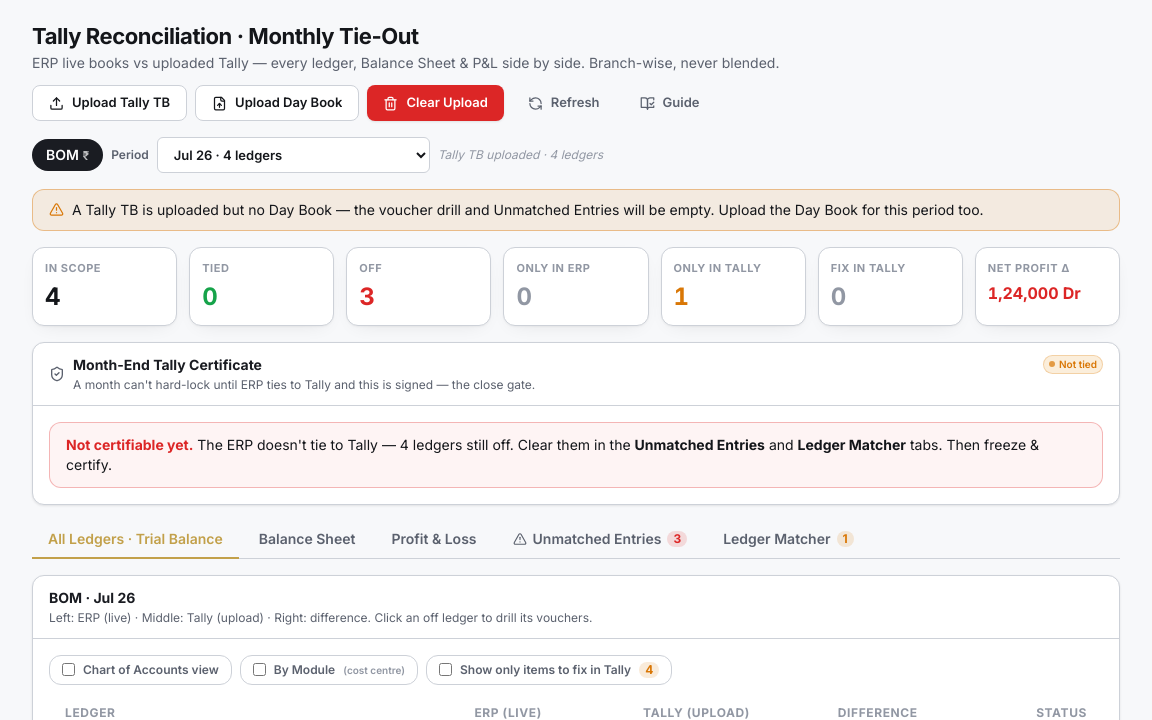
Test: Tally Reconciliation · tie-out board render › Unmatched Entries — voucher defects split into Not in ERP / Not in Tally; whole-ledger (master) gaps are excluded
Click the button "Unmatched Entries 3" at (600, 540), box [496,520,703,558]
(page scrolled)
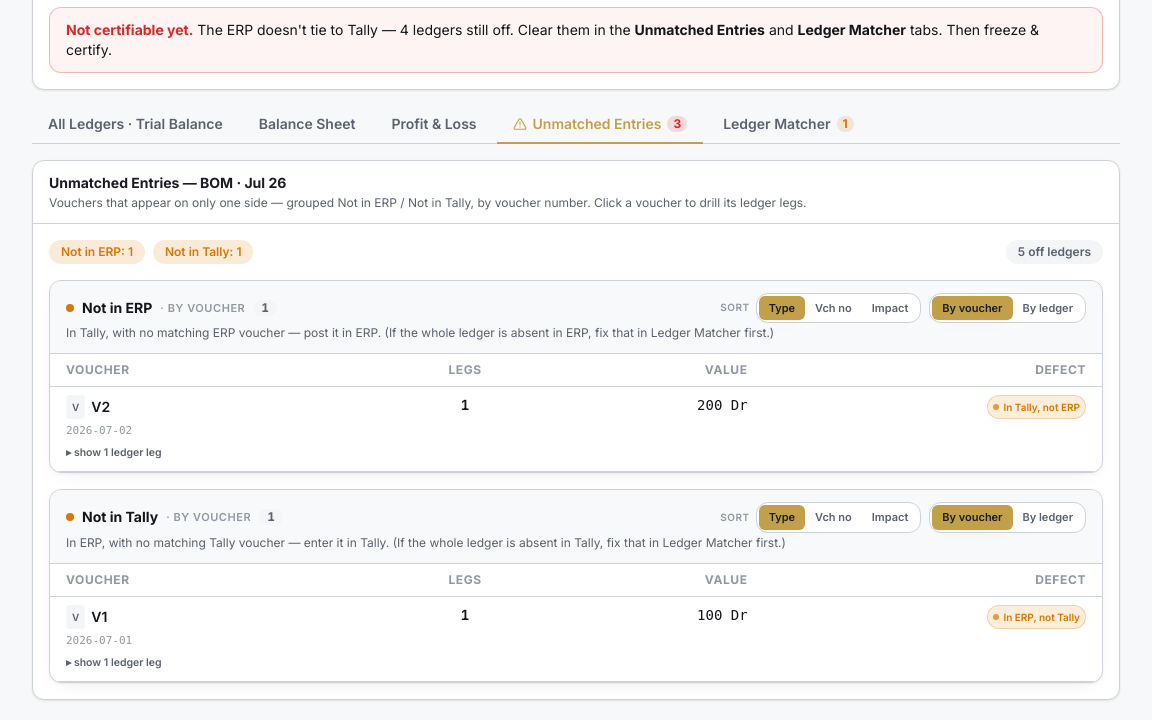
Expected: the heading "Not in ERP · by voucher 1" is shown, [66,298,277,318]
Expected: the heading "Not in Tally · by voucher 1" is shown, [66,507,283,527]
Expected: the text "V1" is shown, [91,606,107,626]
